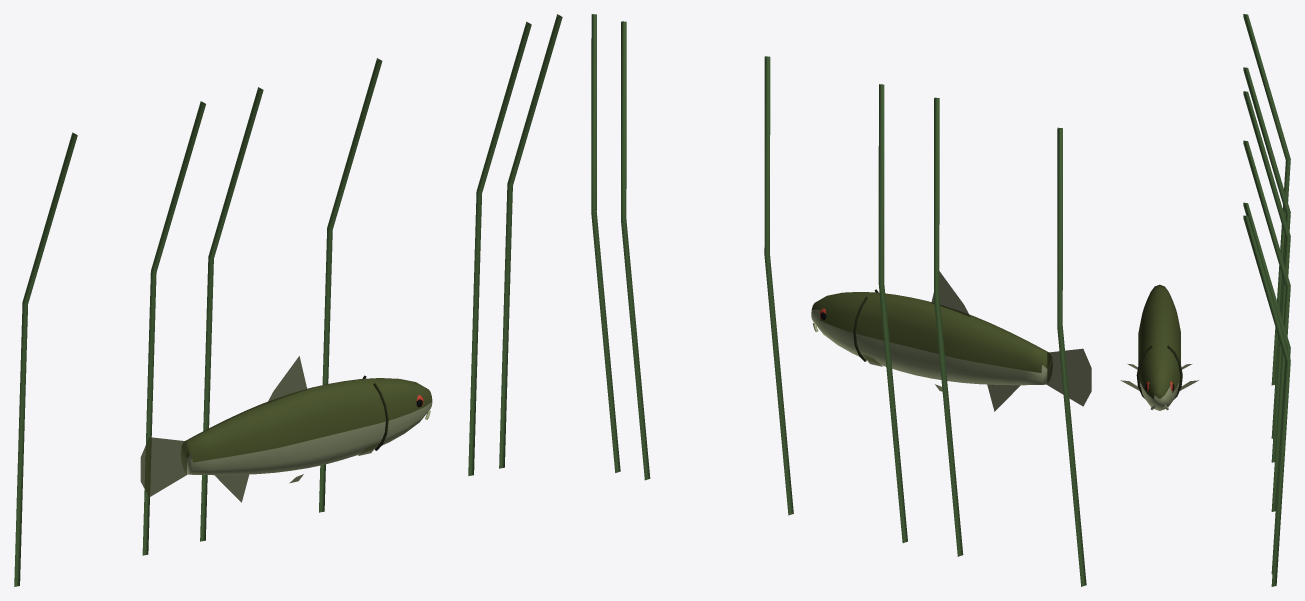
Rendered from lake-lin-shallows-0.glb.
The picture shows the model from 3 angles, left to right: view 1: azimuth 30°, elevation 25°; view 2: azimuth 150°, elevation 25°; view 3: azimuth 270°, elevation 25°; orthographic projection. The views are drawn at different scales.
Visible parts, largest first — view 1: lake-lin-shallows-0; view 2: lake-lin-shallows-0; view 3: lake-lin-shallows-0.
Part boxes in pixels (x1,y1,x2,y2): lake-lin-shallows-0: [14, 14, 562, 586]; lake-lin-shallows-0: [591, 14, 1091, 586]; lake-lin-shallows-0: [1120, 14, 1290, 586].
Bounding box in the file's own units: 0.6442 × 0.5262 × 0.2103.
